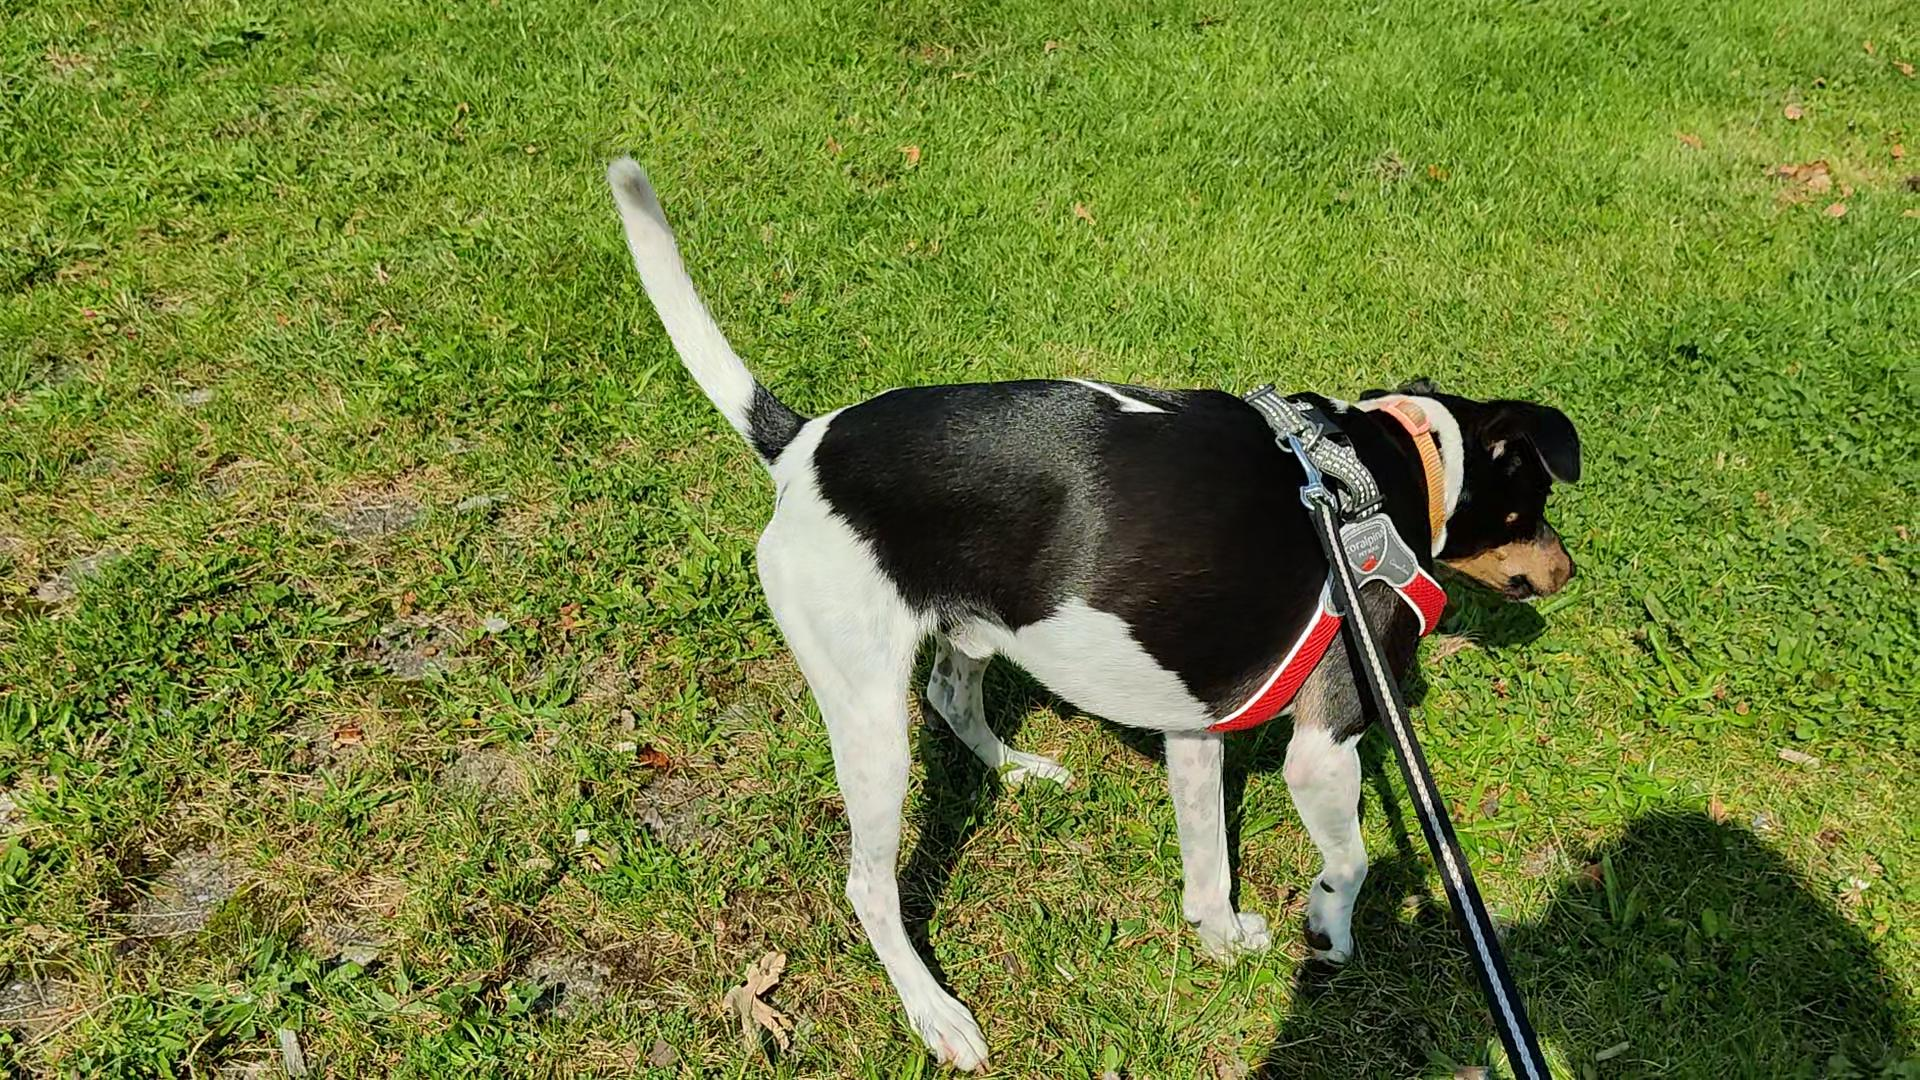Dog: (603, 152, 1578, 1071)
